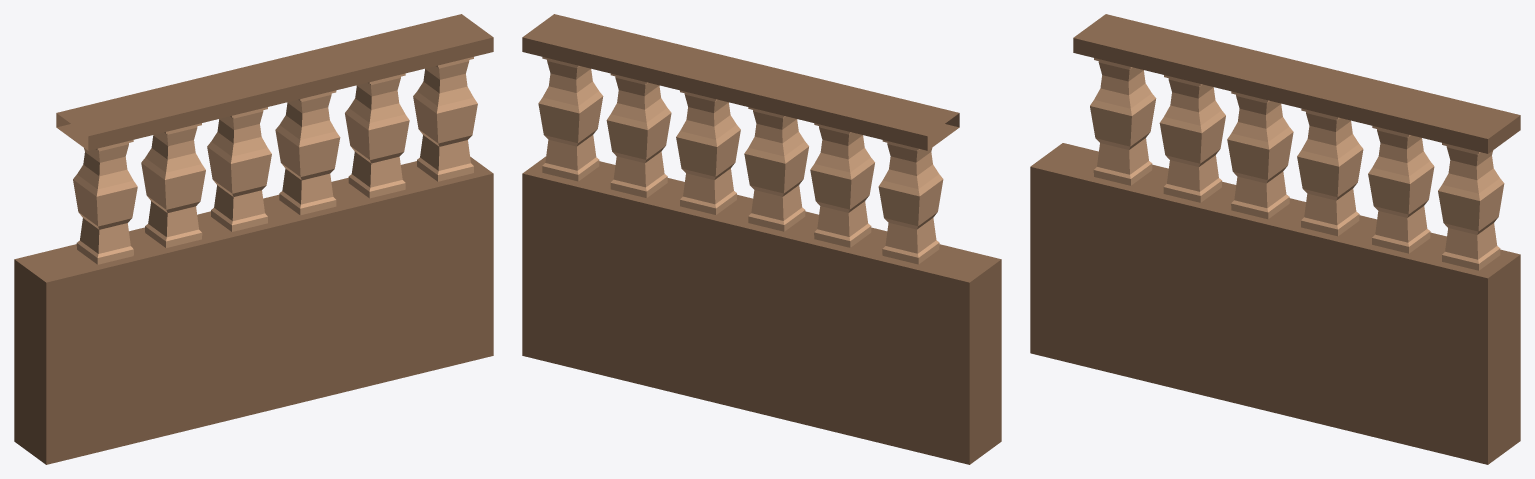
Rendered from level-02.FBX.
3 renders of one model, left to right at view 1: azimuth 30°, elevation 25°; view 2: azimuth 150°, elevation 25°; view 3: azimuth 330°, elevation 25°, orthographic. The views are drawn at different scales.
Parts seen in each view (by area): view 1: Object017; view 2: Object017; view 3: Object017.
Boxes of the visible parts, x1,y1,x2,y2 form: Object017: [14, 14, 493, 464]; Object017: [522, 14, 1001, 464]; Object017: [1030, 14, 1520, 464].
Bounding box in the file's own units: 567 × 386 × 70.15.
